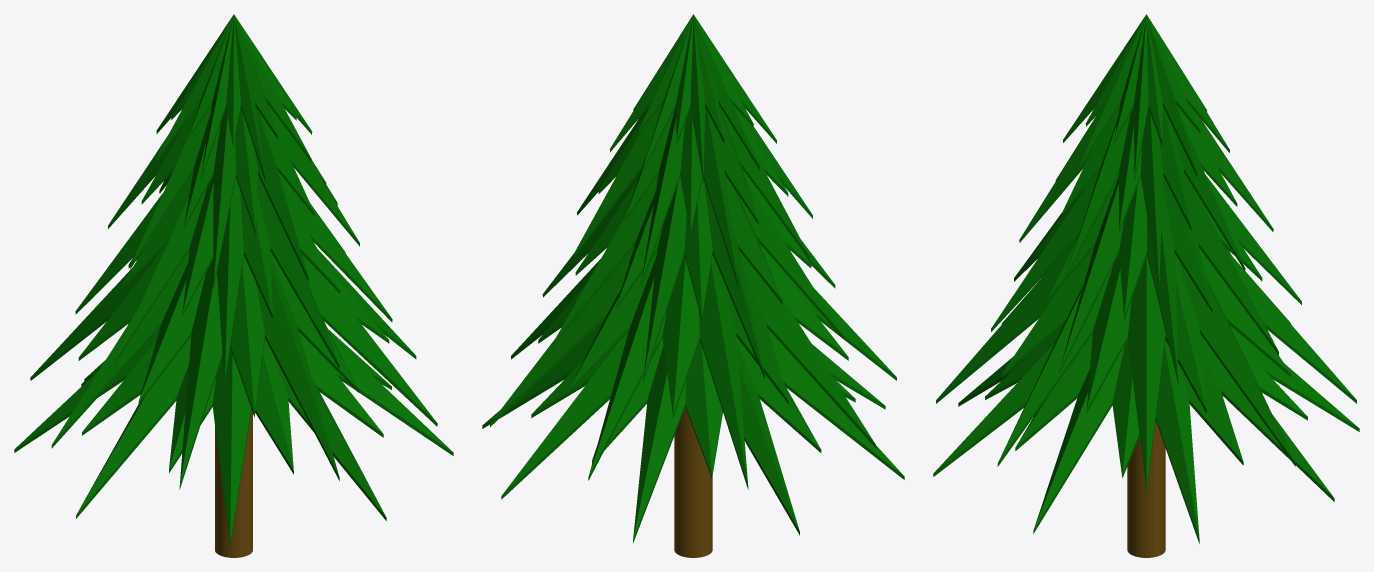
File: xmastree.fbx
The picture shows the model from 3 angles, left to right: view 1: azimuth 30°, elevation 25°; view 2: azimuth 150°, elevation 25°; view 3: azimuth 270°, elevation 25°; orthographic projection.
Parts seen in each view (by area): view 1: Cylinder; view 2: Cylinder; view 3: Cylinder.
Part boxes in pixels (left/top/right/bottom): Cylinder: left=14, top=14, right=453, bottom=557; Cylinder: left=482, top=14, right=904, bottom=557; Cylinder: left=933, top=14, right=1359, bottom=557.
Bounding box in the file's own units: 196 × 272 × 196.
